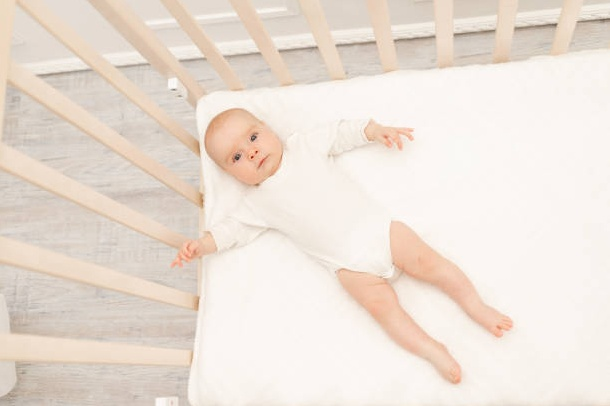baby: (172, 109, 511, 382)
crib: (0, 0, 203, 222)
